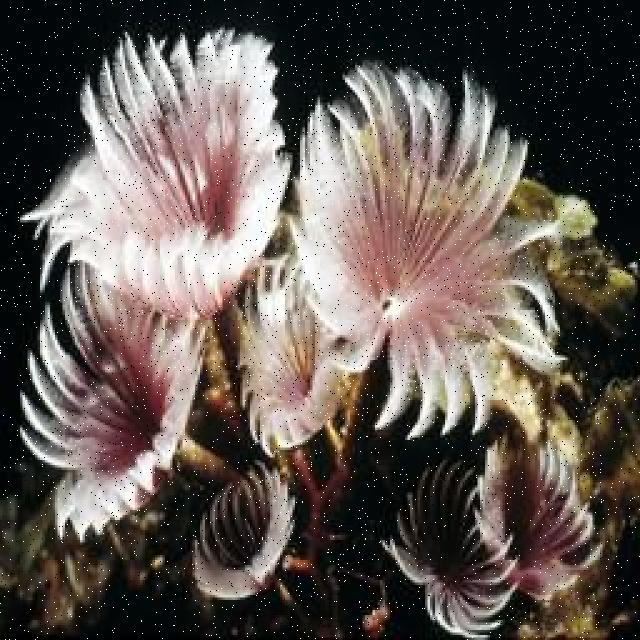aquatic plants: (18, 25, 604, 638)
